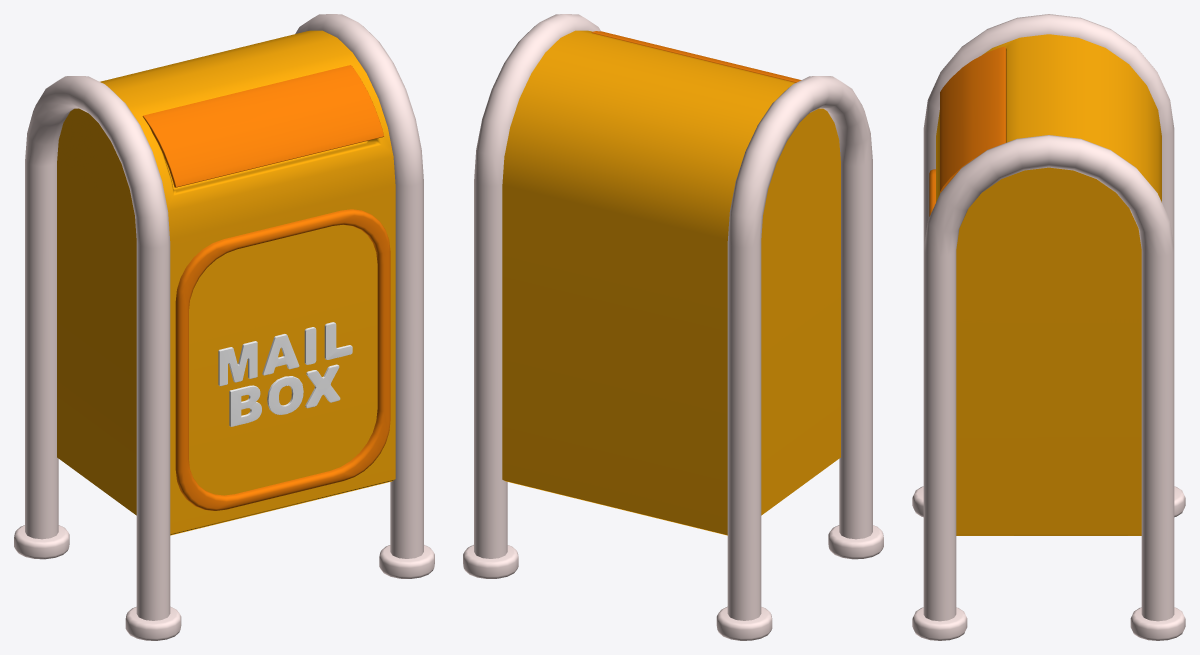
File: Public_6_Mail_Box_1.glb
3 views of the same model, side by side, from view 1: azimuth 30°, elevation 25°; view 2: azimuth 150°, elevation 25°; view 3: azimuth 270°, elevation 25° (orthographic). The views are drawn at different scales.
Parts seen in each view (by area): view 1: Public_6_Mail_Box_1; view 2: Public_6_Mail_Box_1; view 3: Public_6_Mail_Box_1.
Boxes of the visible parts, box(x1,y1,x2,y2) form: Public_6_Mail_Box_1: box(14, 14, 434, 640); Public_6_Mail_Box_1: box(463, 14, 883, 640); Public_6_Mail_Box_1: box(912, 14, 1185, 640).
Bounding box in the file's own units: 1.26 × 2.01 × 1.01.
Materials: 1 (1 with a texture image).
